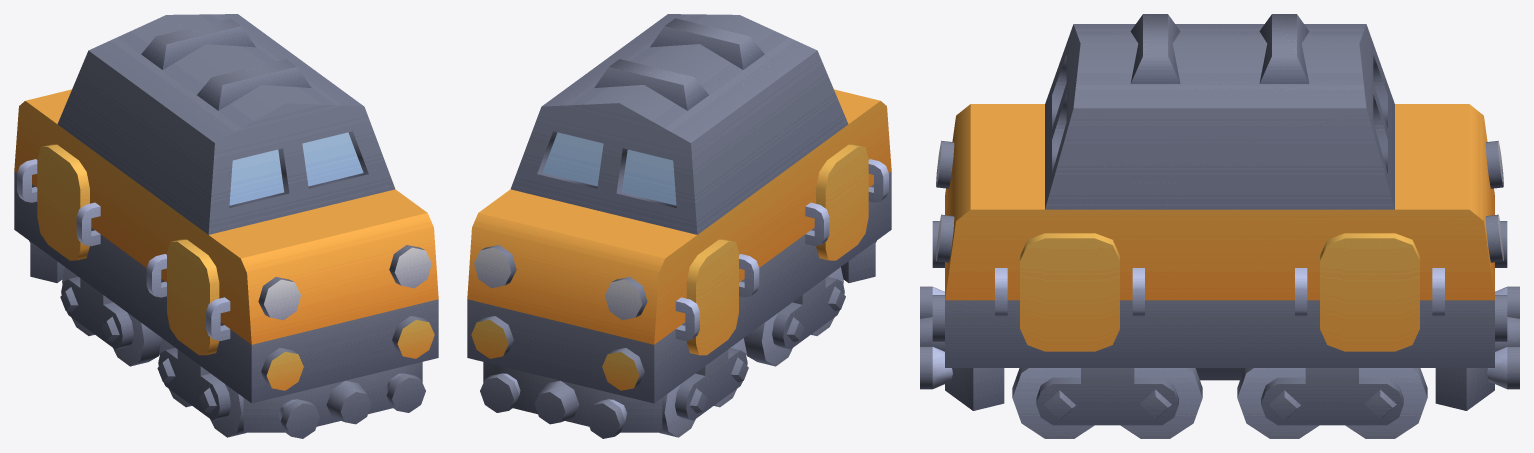
Rendered from train-diesel-a.glb.
3 views of the same model, side by side, from view 1: azimuth 30°, elevation 25°; view 2: azimuth 150°, elevation 25°; view 3: azimuth 270°, elevation 25° (orthographic). The views are drawn at different scales.
Parts seen in each view (by area): view 1: train-diesel-a, wheels-back, wheels-front; view 2: train-diesel-a, wheels-front, wheels-back; view 3: train-diesel-a, wheels-back, wheels-front.
Part boxes in pixels (left/top/right/bottom): train-diesel-a: left=14, top=14, right=438, bottom=438; wheels-back: left=60, top=267, right=161, bottom=366; wheels-front: left=157, top=338, right=246, bottom=437; train-diesel-a: left=467, top=14, right=891, bottom=438; wheels-front: left=744, top=267, right=845, bottom=366; wheels-back: left=659, top=338, right=748, bottom=437; train-diesel-a: left=920, top=14, right=1519, bottom=410; wheels-back: left=1237, top=368, right=1427, bottom=438; wheels-front: left=1012, top=368, right=1202, bottom=438.
Size of the model in its own units: 1.2 by 1.6 by 2.4.
Materials: 1 (1 with a texture image).
